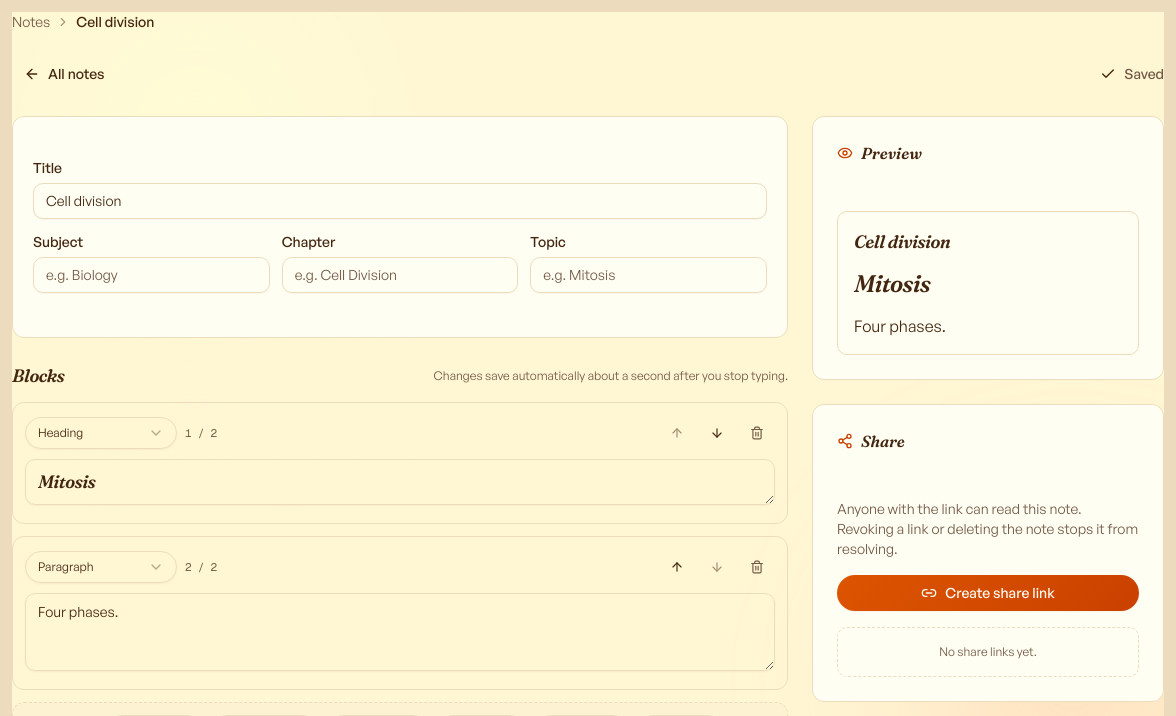
Test: NoteDetail › autosaves an edit and reports the saved status
Replace the text in the field showing "Cell division" with "Cell division revised". click: (400, 201)
box: [33,183,767,219]
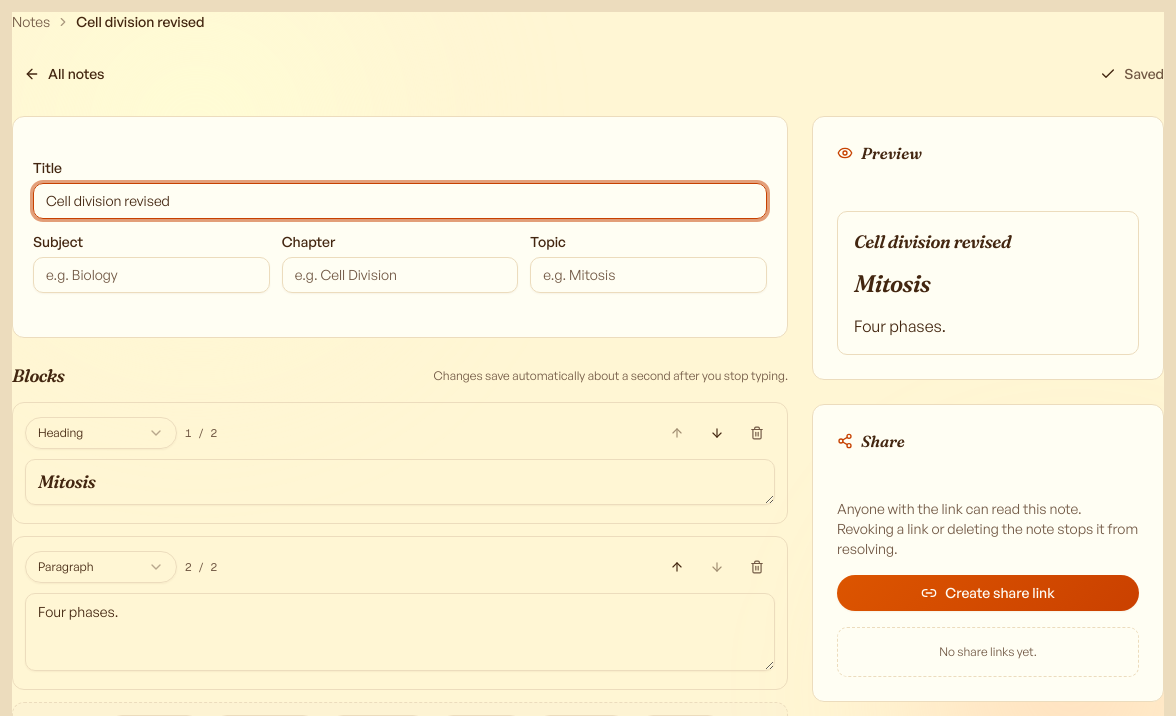
Check: the text "Saved" is shown, box [1124,64,1164,84]
Check: the text "Cell division revised" is shown, box [76,12,204,32]
